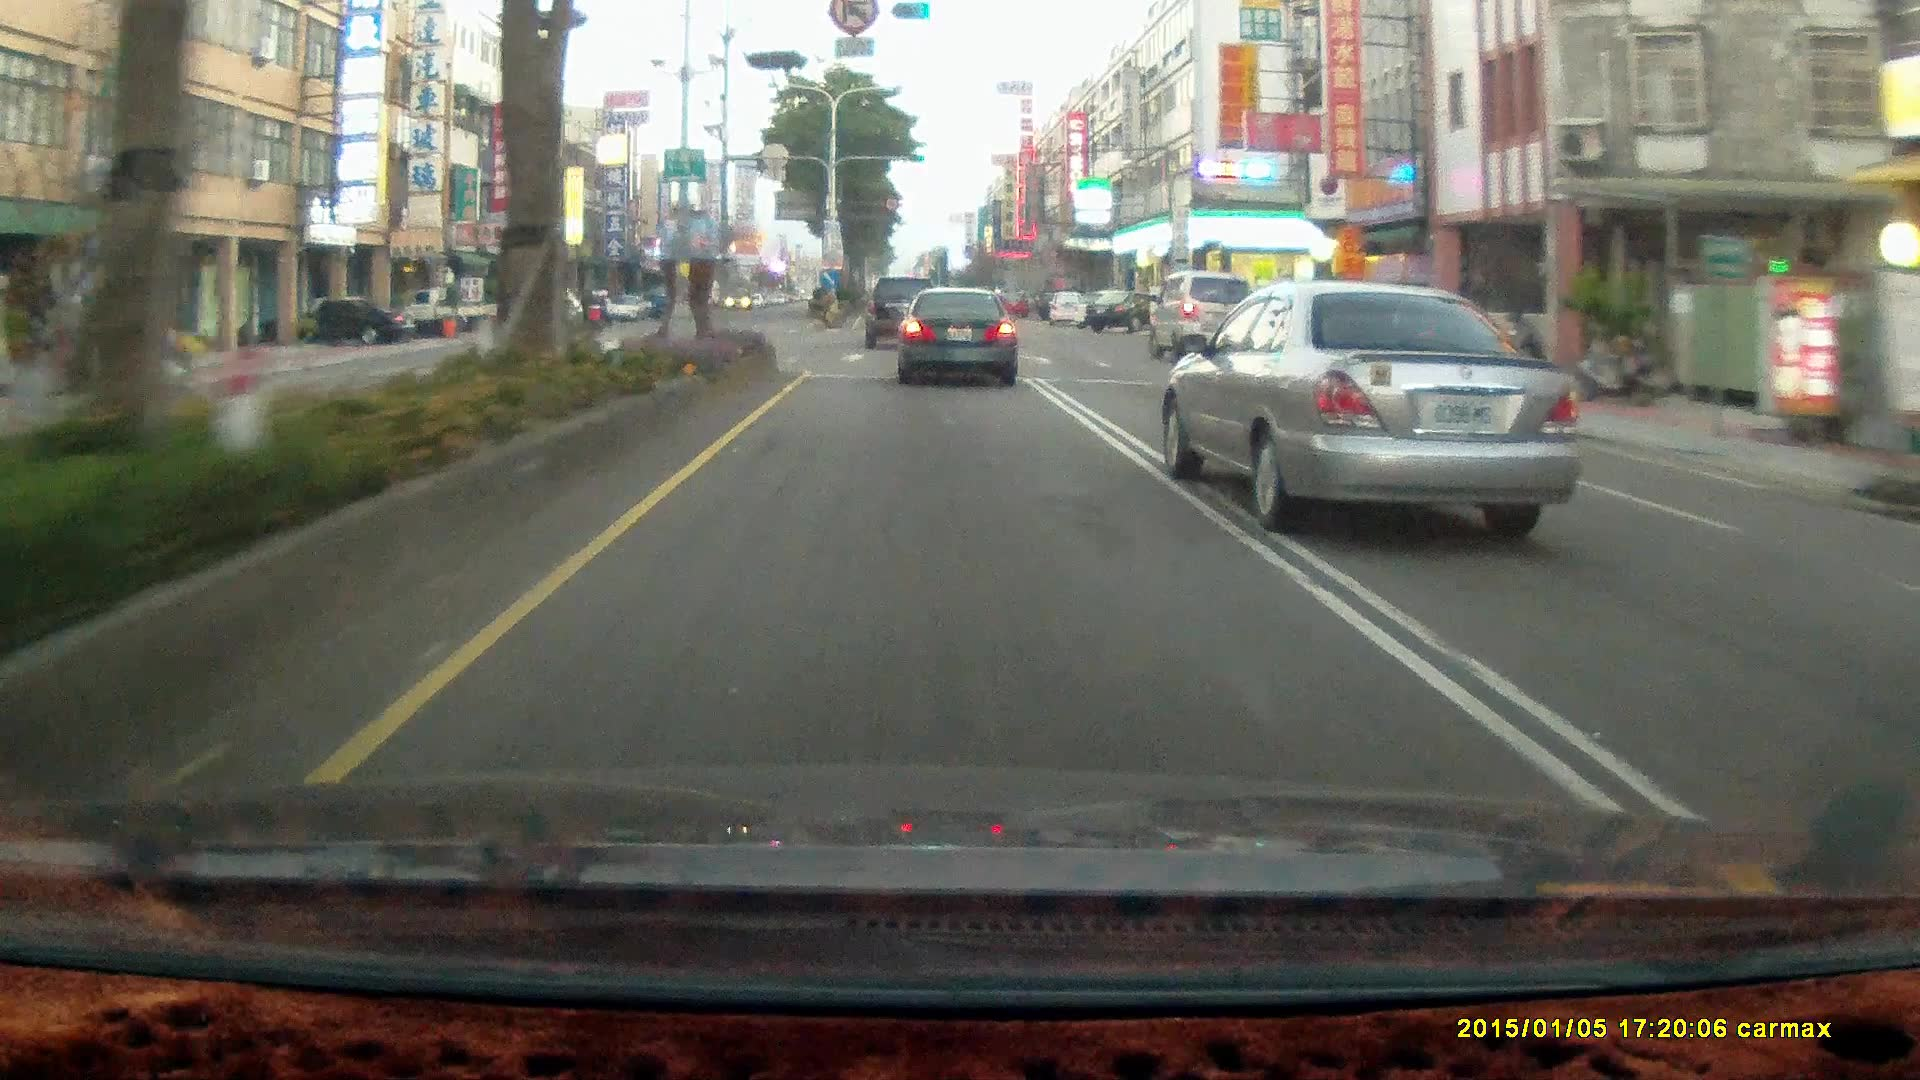rider: (584, 288, 615, 335)
vehicle: (1166, 278, 1598, 534), (897, 284, 1023, 390), (893, 284, 1016, 385), (1150, 269, 1259, 363), (1151, 270, 1261, 364), (274, 294, 409, 343), (297, 295, 407, 349), (864, 274, 942, 351), (864, 275, 940, 348), (403, 286, 502, 339), (395, 286, 495, 333), (1086, 287, 1164, 329), (1087, 286, 1142, 334), (1044, 287, 1088, 323), (610, 294, 650, 319)
